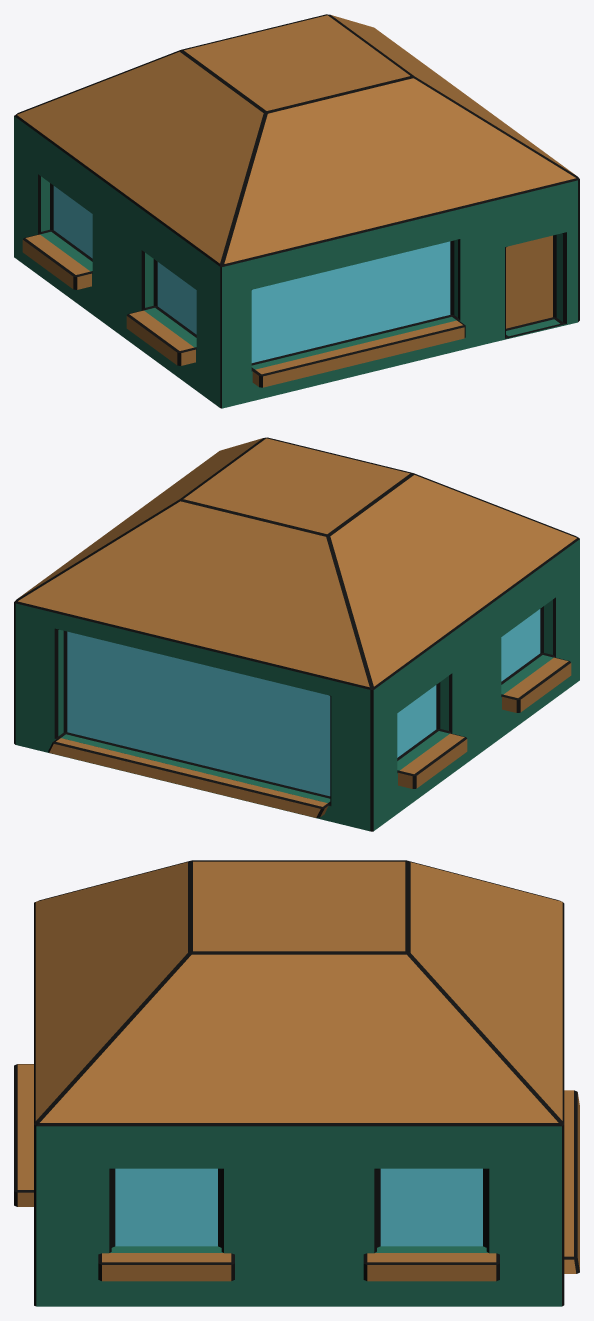
File: House4.fbx
The picture shows the model from 3 angles, top to bottom: view 1: azimuth 30°, elevation 25°; view 2: azimuth 150°, elevation 25°; view 3: azimuth 270°, elevation 25°; orthographic projection. The views are drawn at different scales.
Parts seen in each view (by area): view 1: Cube.001; view 2: Cube.001; view 3: Cube.001.
Part boxes in pixels (x1,y1,x2,y2): Cube.001: (14,14,579,408); Cube.001: (14,437,579,831); Cube.001: (14,860,579,1306).
Size of the model in its own units: 2.9 by 1.6 by 2.83.
